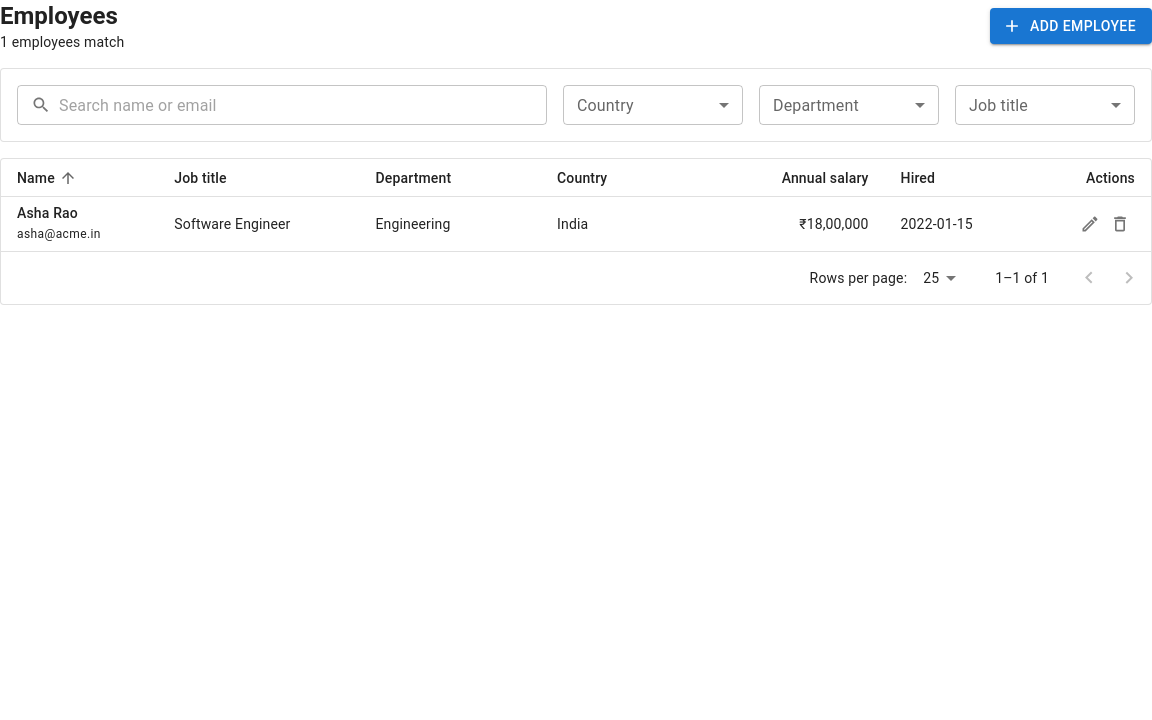
EmployeesPage › deletes an employee after confirmation
This screenshot has width=1152, height=720.
Click the button named "Delete Asha Rao": (1120, 224) [1105,209,1135,239]
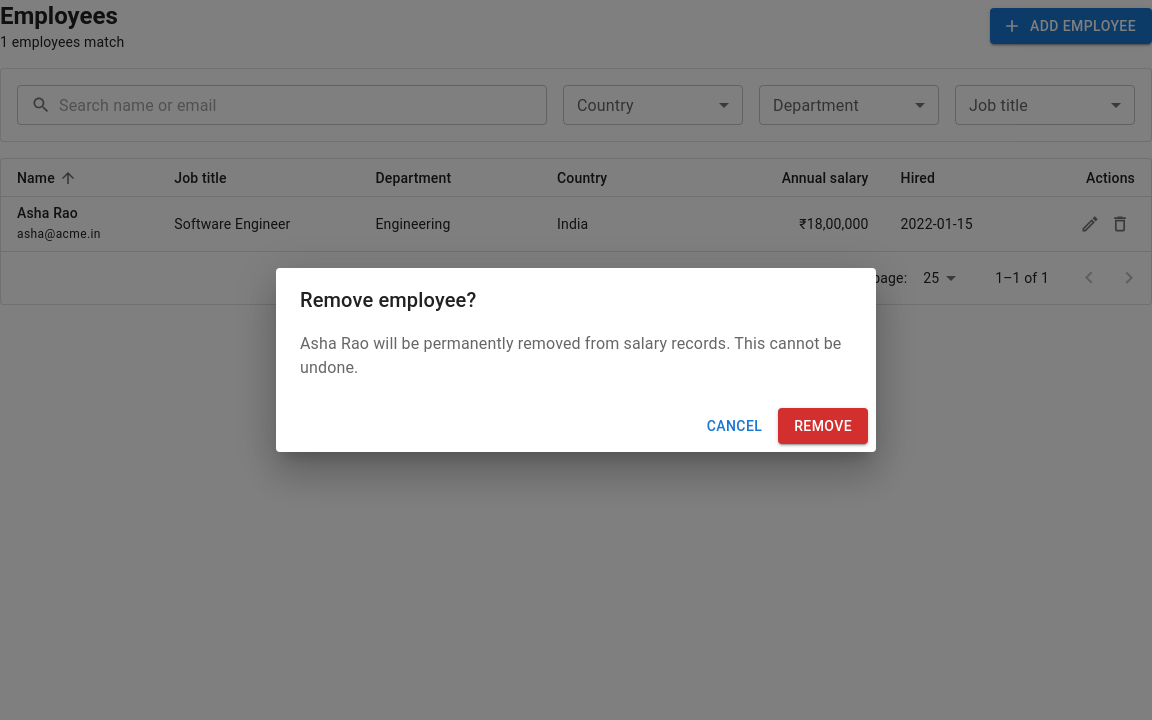
Click the button "Remove": (823, 426) [778,408,868,444]
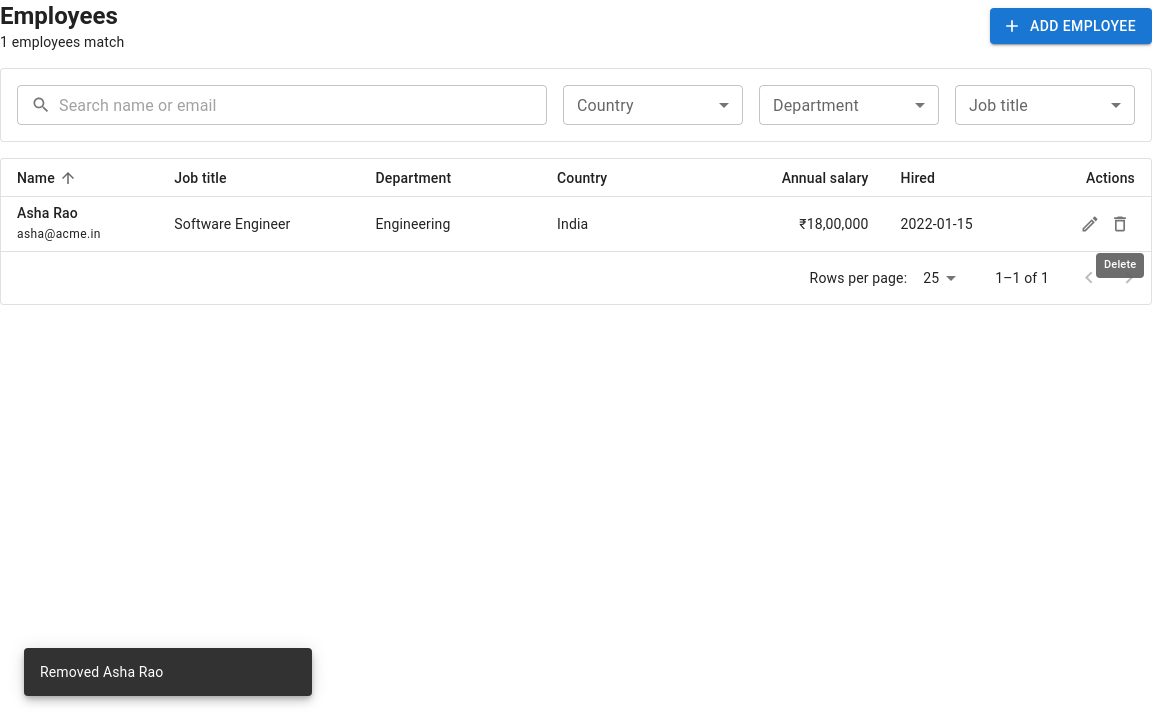
Now the text "Removed Asha Rao" is shown, box [40,664,164,680]
